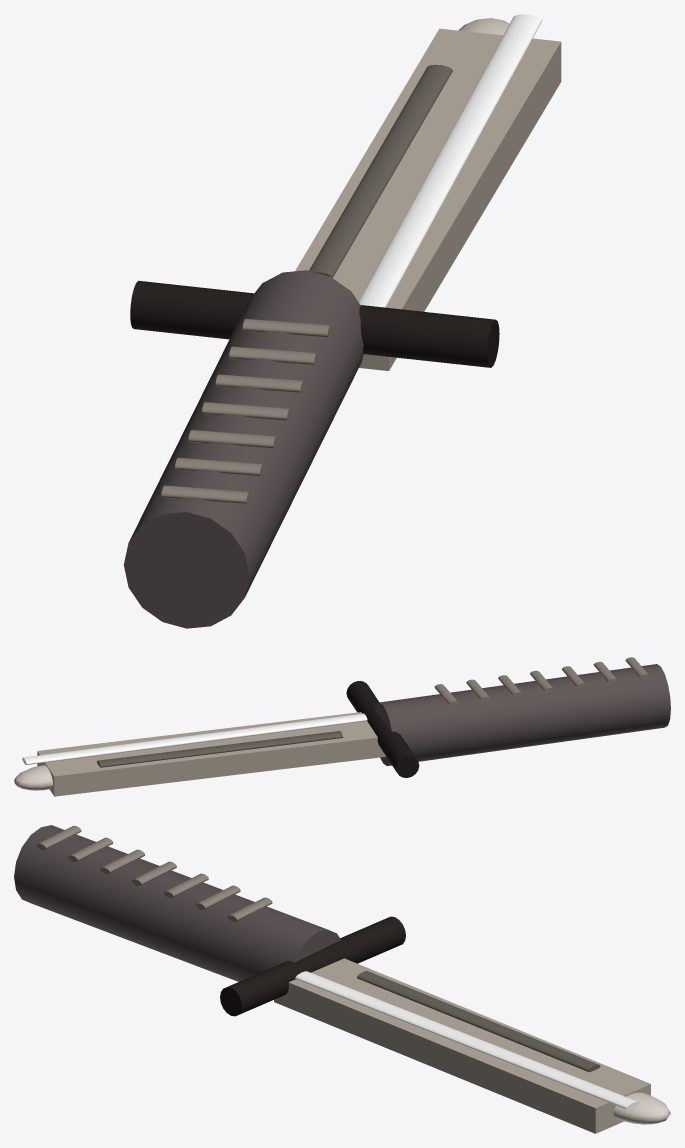
Rendered from CMU3DFieldRMCM5BayonetCloud.glb.
The picture shows the model from 3 angles, top to bottom: view 1: azimuth 30°, elevation 25°; view 2: azimuth 150°, elevation 25°; view 3: azimuth 270°, elevation 25°; orthographic projection. The views are drawn at different scales.
Visible parts, largest first — view 1: bayonet dark grip, bayonet blade face, bayonet guard, bayonet edge, bayonet long groove, grip silver stripe 0, grip silver stripe 4, grip silver stripe 5, grip silver stripe 1, grip silver stripe 3, grip silver stripe 6, grip silver stripe 2; view 2: bayonet dark grip, bayonet blade face, bayonet edge, bayonet guard, bayonet long groove, slender blade tip, grip silver stripe 1, grip silver stripe 0, grip silver stripe 5, grip silver stripe 6, grip silver stripe 3, grip silver stripe 4 (+1 smaller); view 3: bayonet dark grip, bayonet blade face, bayonet guard, bayonet edge, bayonet long groove, slender blade tip.
Boxes of the visible parts, x1,y1,x2,y2 form: bayonet dark grip: (123,270,363,628); bayonet blade face: (295,28,561,370); bayonet guard: (130,280,499,367); bayonet edge: (358,14,542,307); bayonet long groove: (309,64,452,277); grip silver stripe 0: (161,485,249,504); grip silver stripe 4: (215,374,303,393); grip silver stripe 5: (229,346,317,365); grip silver stripe 1: (175,457,263,476); grip silver stripe 3: (202,402,290,420); grip silver stripe 6: (242,318,330,337); grip silver stripe 2: (188,430,276,448); bayonet dark grip: (374,664,670,765); bayonet blade face: (37,712,385,796); bayonet edge: (22,713,367,764); bayonet guard: (346,681,419,777); bayonet long groove: (97,731,343,767); slender blade tip: (14,765,52,790); grip silver stripe 1: (593,661,617,683); grip silver stripe 0: (625,657,649,679); grip silver stripe 5: (466,679,490,701); grip silver stripe 6: (434,684,458,705); grip silver stripe 3: (530,670,553,692); grip silver stripe 4: (498,675,521,696); bayonet dark grip: (14,825,340,981); bayonet blade face: (274,958,650,1133); bayonet guard: (220,916,405,1016); bayonet edge: (295,971,639,1109); bayonet long groove: (357,971,600,1072); slender blade tip: (613,1092,670,1124).
Bounding box in the file's own units: 0.6114 × 0.0818 × 0.6384.
